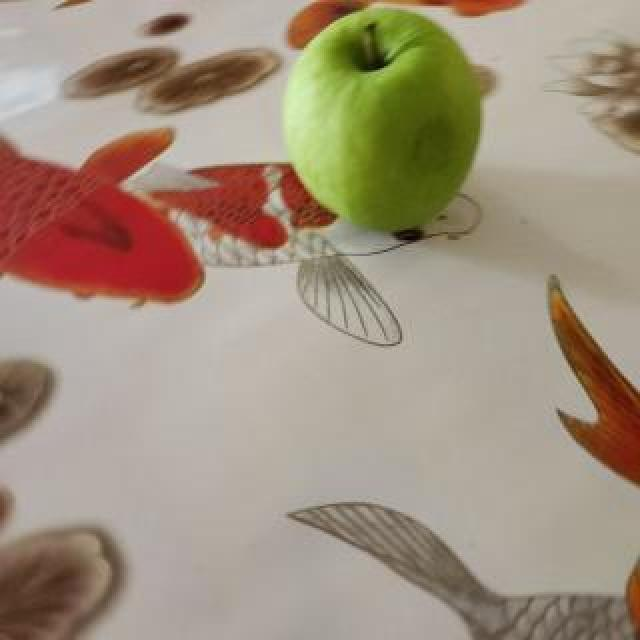Fresh Apple: (284, 16, 484, 231)
